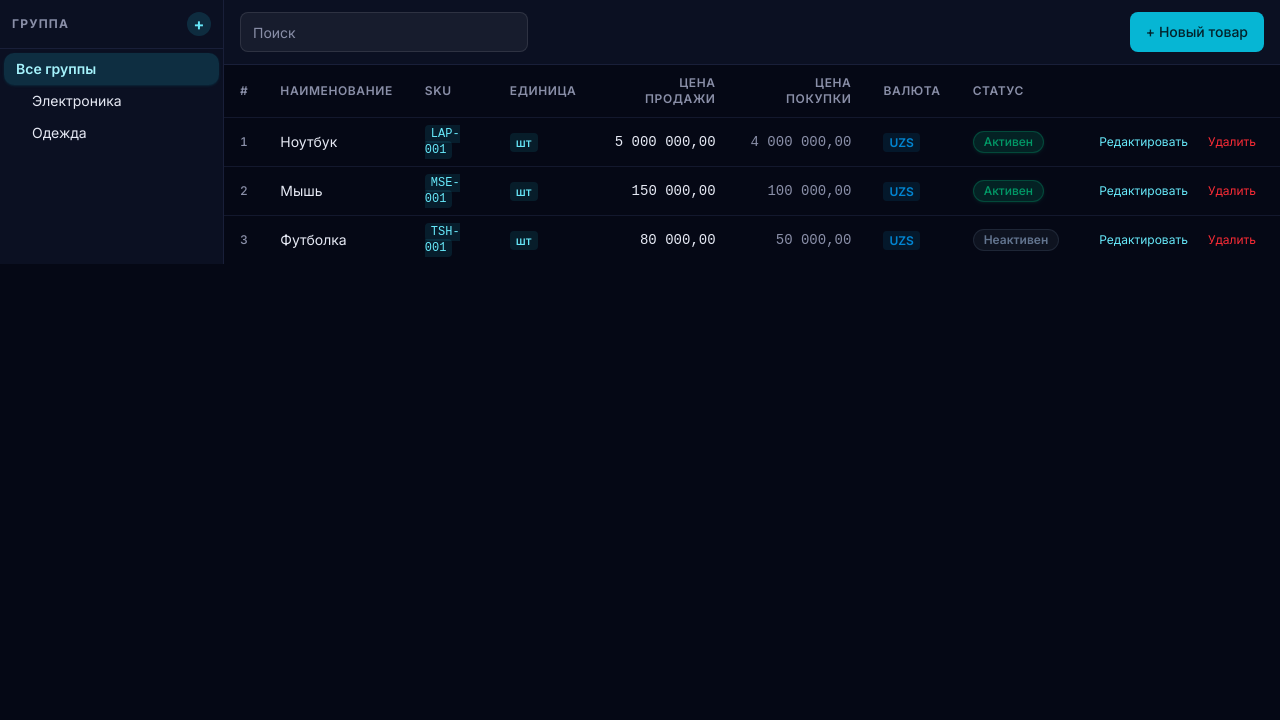
ProductsPage › открывает диалог удаления и делает API вызов
Check: the text "Ноутбук" is shown, box [264,118,409,166]
# Первый confirm в диалоге
Step 1. Click the button "Удалить" in the row of "Ноутбук" → (1232, 142), box [1200,130,1264,154]
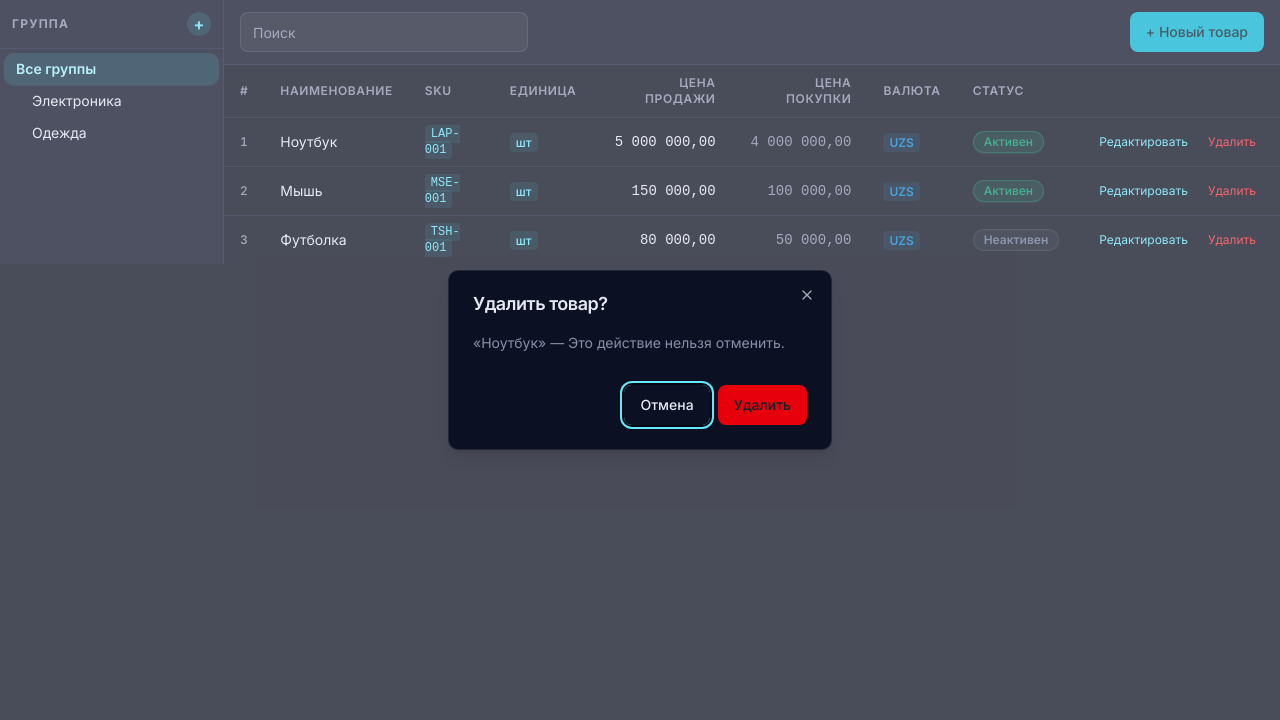
Check: the dialog is shown, box [448,270,832,450]
